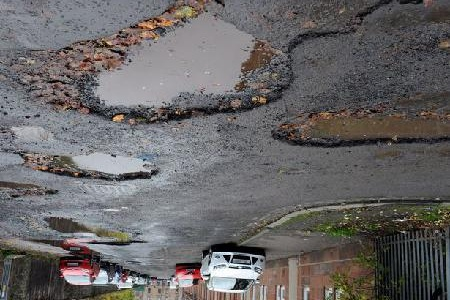pothole: (18, 0, 302, 128), (268, 105, 449, 151), (12, 146, 161, 183), (84, 226, 147, 247), (0, 178, 58, 200), (41, 212, 89, 237)
